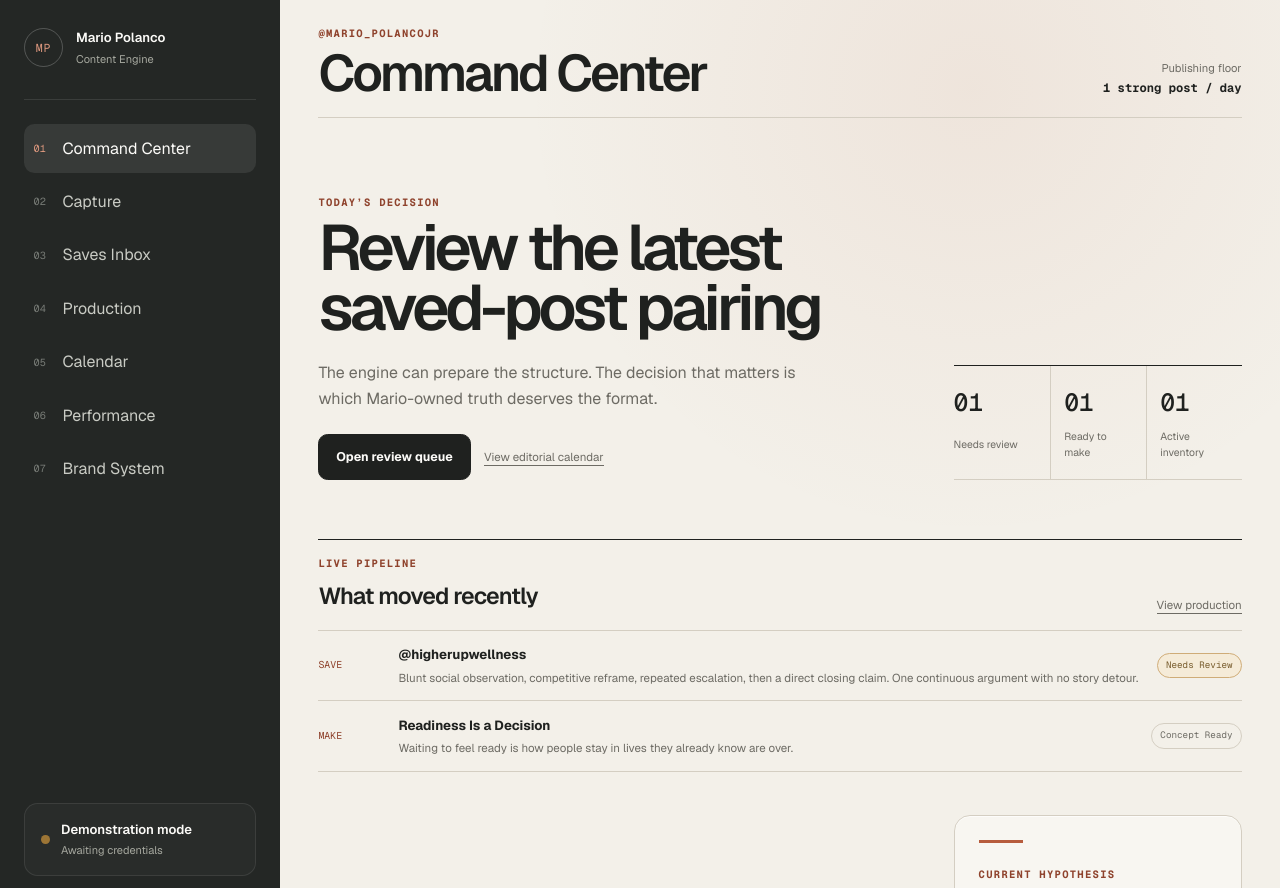
Production package instructions › offers an optional short script for a POV realization
The image size is (1280, 888).
Step 1. Click the button "04 Production" → (140, 309), box left=24, top=284, right=256, bottom=333
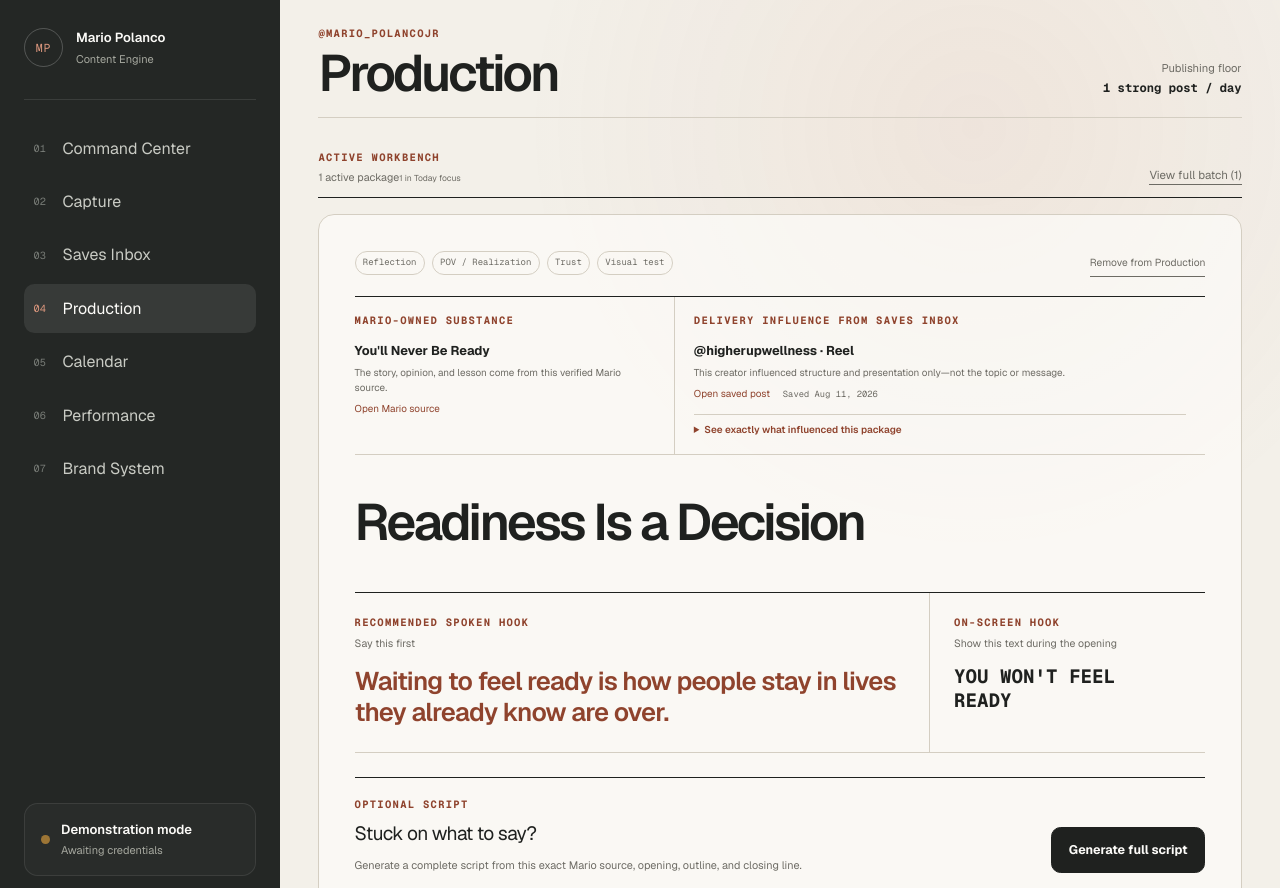
Expected: the button "Generate full script" is shown, left=1051, top=827, right=1205, bottom=873
Expected: the heading "Stuck on what to say?" is shown, left=355, top=821, right=536, bottom=846
